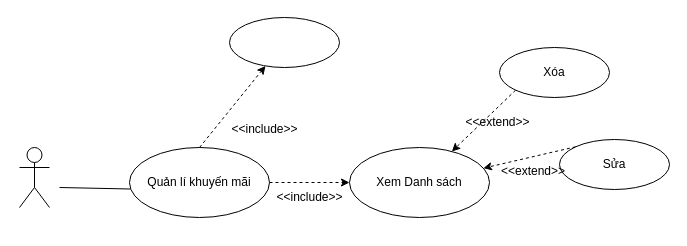
Image size: 687x246. Some labels were removed from this diagram. Here are the shapes that lost their labels. From the top down, the box of each, then its label:
(228, 16, 340, 68): Thêm
(18, 146, 50, 208): Admin
